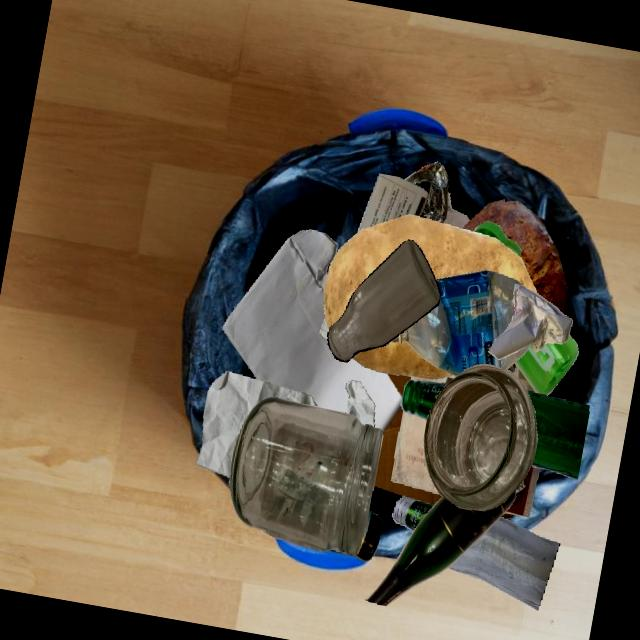biowaste: (323, 214, 536, 330), (461, 199, 567, 313)
cardboard: (396, 364, 513, 516), (373, 412, 442, 505)
glass: (229, 396, 382, 554), (365, 490, 515, 606), (423, 364, 537, 511), (327, 239, 440, 362), (447, 516, 559, 610), (526, 390, 589, 480), (400, 380, 448, 420), (351, 510, 382, 561), (512, 362, 536, 392)
metal: (404, 162, 448, 223)
paper: (222, 229, 402, 433), (195, 371, 317, 477), (412, 382, 514, 499), (488, 283, 572, 359), (356, 173, 429, 233), (390, 435, 440, 494), (504, 466, 539, 516)
plastic: (391, 270, 531, 376), (514, 334, 578, 395), (442, 191, 470, 228)
